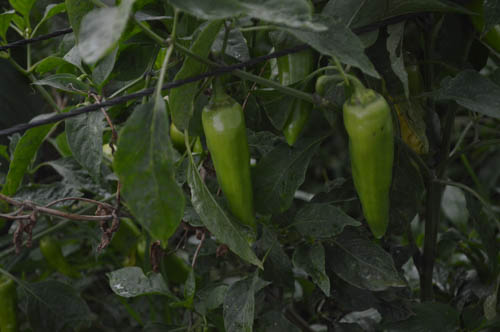ChiliPepper: (333, 86, 401, 241), (197, 98, 263, 232), (266, 32, 314, 149)
